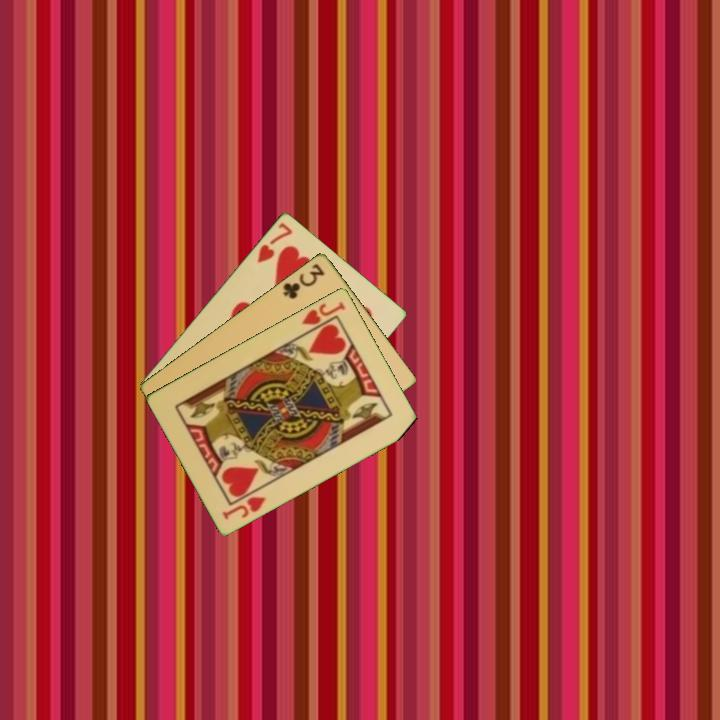3c: (279, 259, 327, 302)
7h: (253, 218, 295, 266)
Jh: (218, 492, 269, 522), (298, 298, 348, 328)
